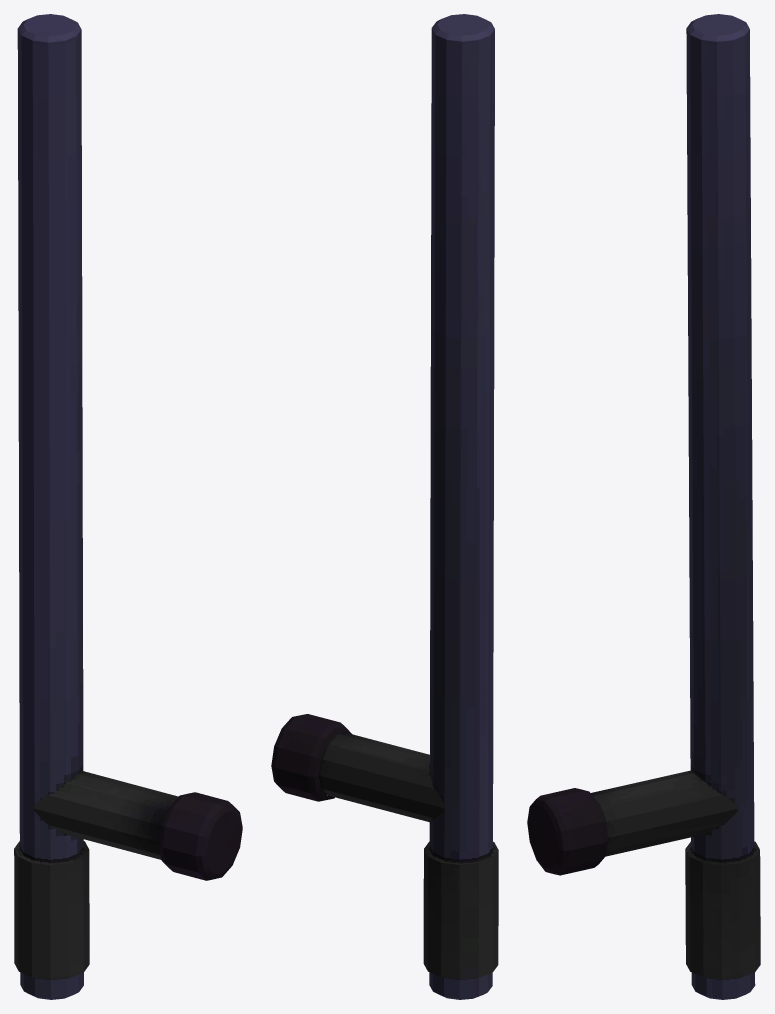
The model's file is item_police_baton.glb.
3 views of the same model, side by side, from view 1: azimuth 30°, elevation 25°; view 2: azimuth 210°, elevation 25°; view 3: azimuth 270°, elevation 25° (orthographic).
Visible parts, largest first — view 1: PoliceBaton; view 2: PoliceBaton; view 3: PoliceBaton.
Boxes of the visible parts, bbox=[...] form: PoliceBaton: bbox=[14, 14, 242, 999]; PoliceBaton: bbox=[271, 14, 498, 999]; PoliceBaton: bbox=[527, 14, 760, 999].
Size of the model in its own units: 0.0954 by 0.6136 by 0.135.
Materials: 1 (1 with a texture image).
